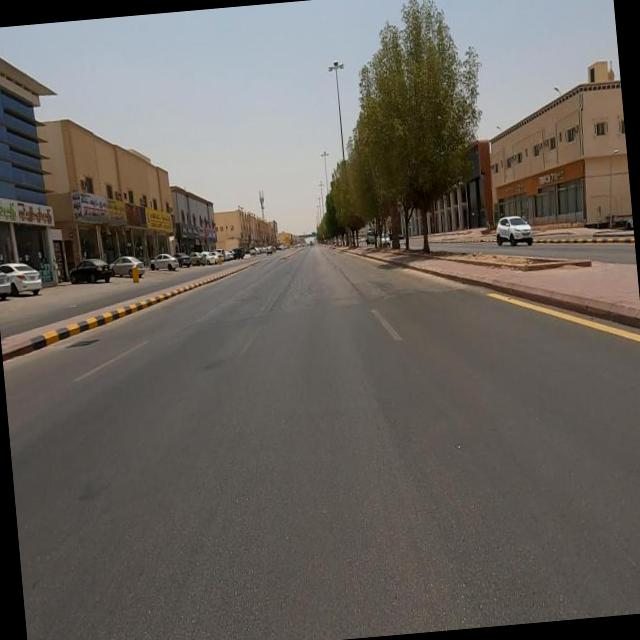debris: (107, 184, 158, 252)
